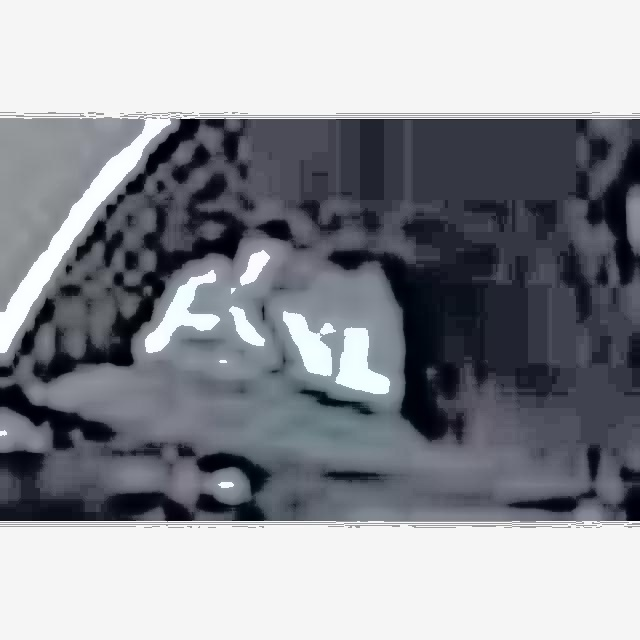pakai: (145, 202, 403, 429)
